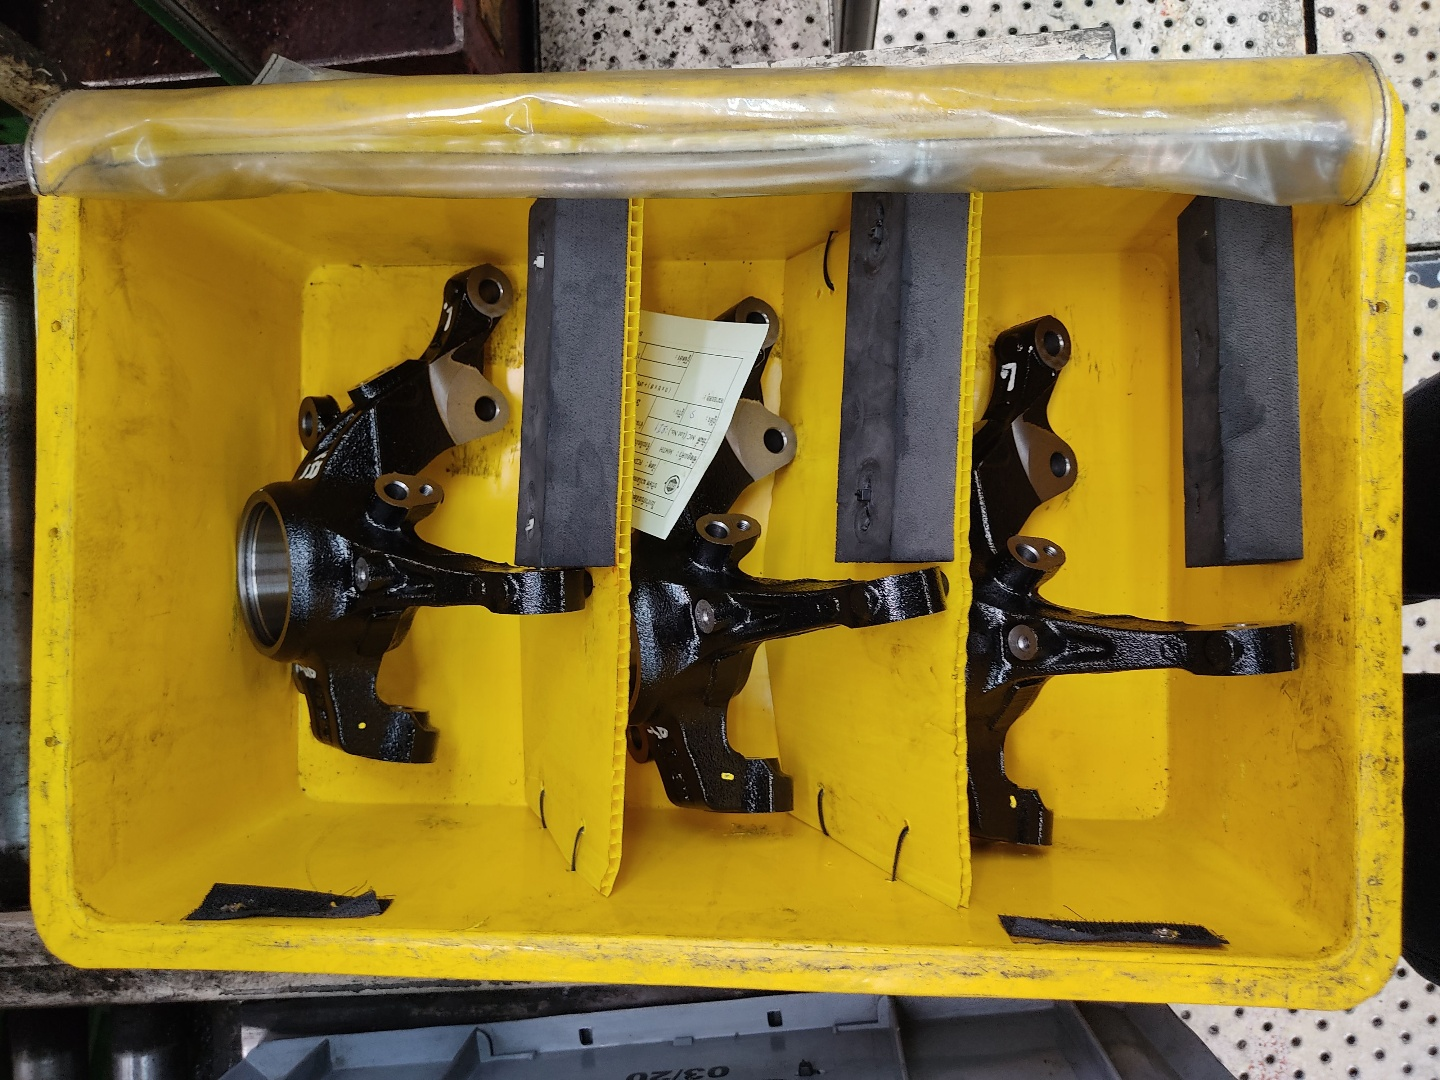abs-lh: (956, 305, 1319, 857), (226, 258, 605, 778), (618, 281, 954, 822)
